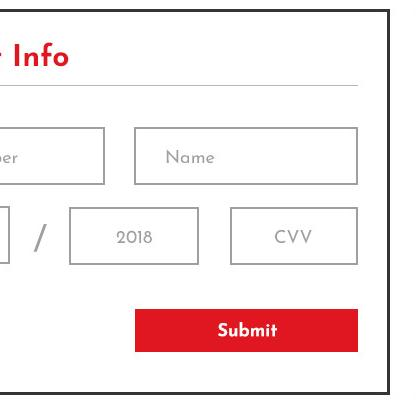button: (132, 305, 361, 356)
field: (132, 124, 360, 189), (226, 204, 363, 267), (68, 206, 203, 269)
